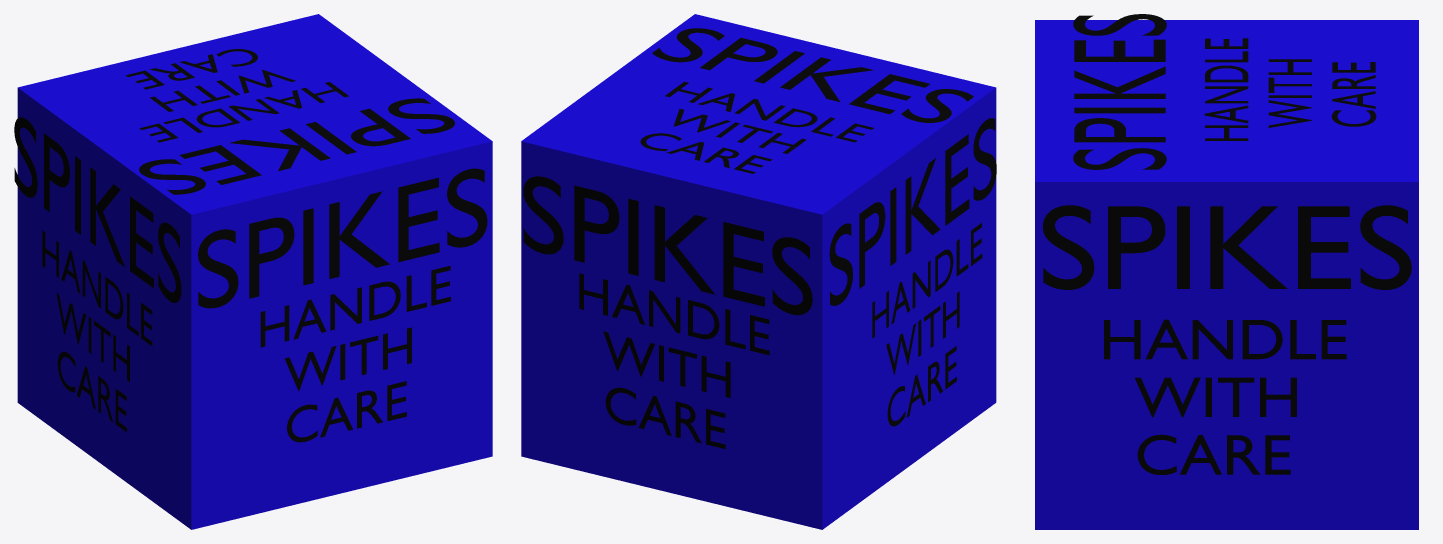
File: SpikesBox.fbx
3 views of the same model, side by side, from view 1: azimuth 30°, elevation 25°; view 2: azimuth 150°, elevation 25°; view 3: azimuth 270°, elevation 25° (orthographic). The views are drawn at different scales.
Visible parts, largest first — view 1: Cube, Text.002, Text.003, Text.008, Text.006, Text.009, Text.007; view 2: Cube, Text.005, Text.004, Text.008, Text.006, Text.009, Text.007; view 3: Cube, Text.001, Text, Text.006, Text.007.
Boxes of the visible parts, <box> form: Cube: <box>17,14,492,529</box>; Text.002: <box>198,168,487,308</box>; Text.003: <box>260,265,450,442</box>; Text.008: <box>14,117,181,302</box>; Text.006: <box>139,98,454,194</box>; Text.009: <box>42,230,152,432</box>; Text.007: <box>126,49,348,142</box>; Cube: <box>521,14,996,529</box>; Text.005: <box>523,176,812,315</box>; Text.004: <box>579,273,769,448</box>; Text.008: <box>829,118,996,305</box>; Text.006: <box>652,28,973,122</box>; Text.009: <box>872,223,982,426</box>; Text.007: <box>640,81,873,173</box>; Cube: <box>1035,20,1418,529</box>; Text.001: <box>1042,205,1411,289</box>; Text: <box>1104,319,1346,474</box>; Text.006: <box>1073,14,1166,169</box>; Text.007: <box>1204,38,1376,140</box>.
Bounding box in the file's own units: 305 × 292 × 302.
